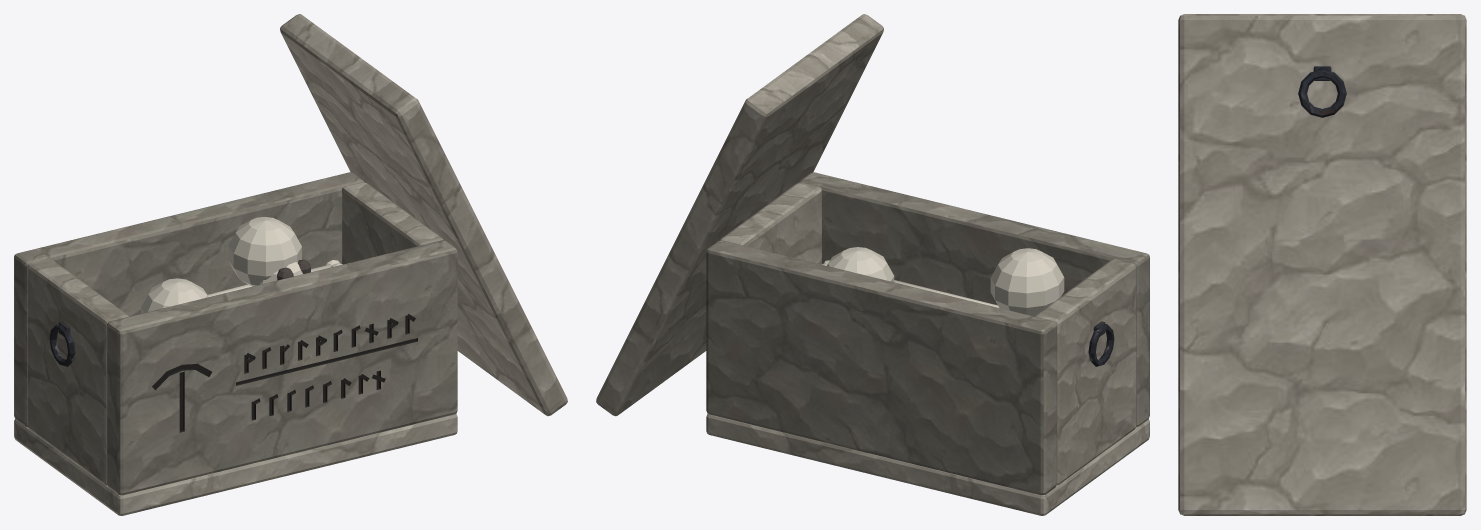
Rendered from qb_bone_chest.glb.
3 views of the same model, side by side, from view 1: azimuth 30°, elevation 25°; view 2: azimuth 150°, elevation 25°; view 3: azimuth 270°, elevation 25° (orthographic). The views are drawn at different scales.
Visible parts, largest first — view 1: model; view 2: model; view 3: model.
Part boxes in pixels (bbox=[...]): model: bbox=[14, 14, 567, 515]; model: bbox=[596, 14, 1149, 515]; model: bbox=[1178, 14, 1466, 515].
Bounding box in the file's own units: 1.26 × 0.9403 × 0.58.
11 materials, 4 textured.
